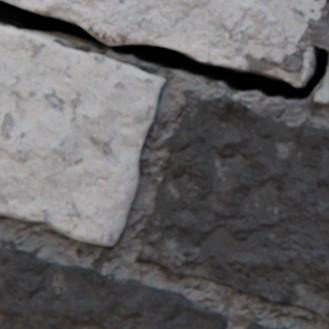brick: (136, 96, 328, 319), (0, 26, 165, 245), (4, 0, 325, 73), (0, 246, 226, 328), (314, 71, 328, 104), (300, 46, 312, 76), (247, 323, 288, 328)
crack: (0, 0, 328, 100)
